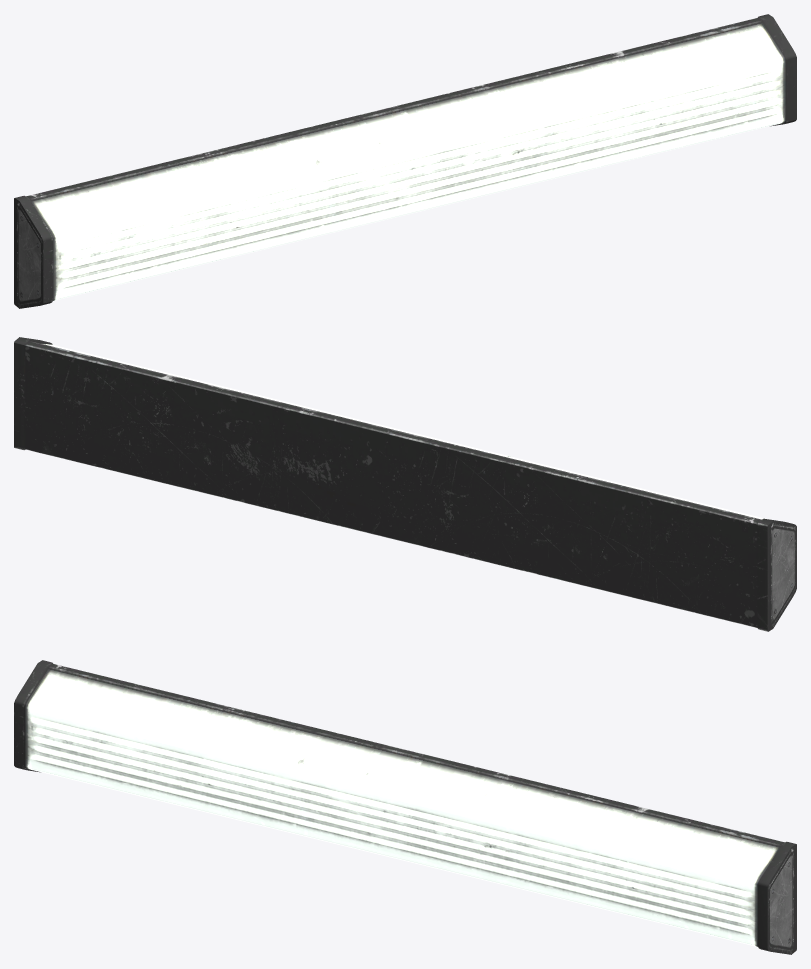
File: SM_Wall_Light_02a.glb
The picture shows the model from 3 angles, top to bottom: view 1: azimuth 30°, elevation 25°; view 2: azimuth 150°, elevation 25°; view 3: azimuth 330°, elevation 25°; orthographic projection.
Parts seen in each view (by area): view 1: SM_Wall_Light_02a; view 2: SM_Wall_Light_02a; view 3: SM_Wall_Light_02a.
Boxes of the visible parts, <box> form: SM_Wall_Light_02a: <box>14,14,796,308</box>; SM_Wall_Light_02a: <box>14,337,796,631</box>; SM_Wall_Light_02a: <box>14,660,796,954</box>.
Bounding box in the file's own units: 1.5 × 0.2051 × 0.1007.
1 material, 1 textured.
